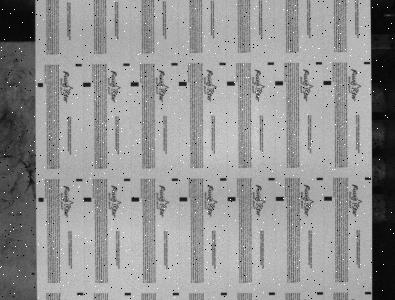backgroundclutter: (31, 272, 35, 275)
incorrect qblock: (38, 197, 44, 202), (37, 83, 43, 87)
qblock: (83, 197, 92, 202), (276, 196, 284, 201), (324, 196, 332, 201), (83, 82, 91, 87), (227, 81, 235, 86), (323, 80, 331, 85), (131, 197, 140, 201), (179, 197, 188, 201), (130, 82, 139, 86), (228, 197, 236, 201), (275, 81, 283, 85), (179, 82, 187, 86)
smallqblock: (317, 291, 324, 295), (171, 62, 178, 66), (220, 177, 227, 181), (75, 63, 82, 66), (77, 292, 84, 295), (124, 292, 131, 295), (269, 292, 276, 295), (172, 292, 179, 295), (221, 292, 228, 295), (123, 63, 130, 66), (316, 62, 323, 65), (219, 62, 226, 65), (76, 178, 83, 181), (124, 178, 131, 181), (172, 178, 179, 181), (268, 177, 275, 180), (364, 61, 371, 64), (317, 177, 324, 180), (365, 177, 372, 180), (268, 62, 274, 65), (365, 291, 371, 294)
